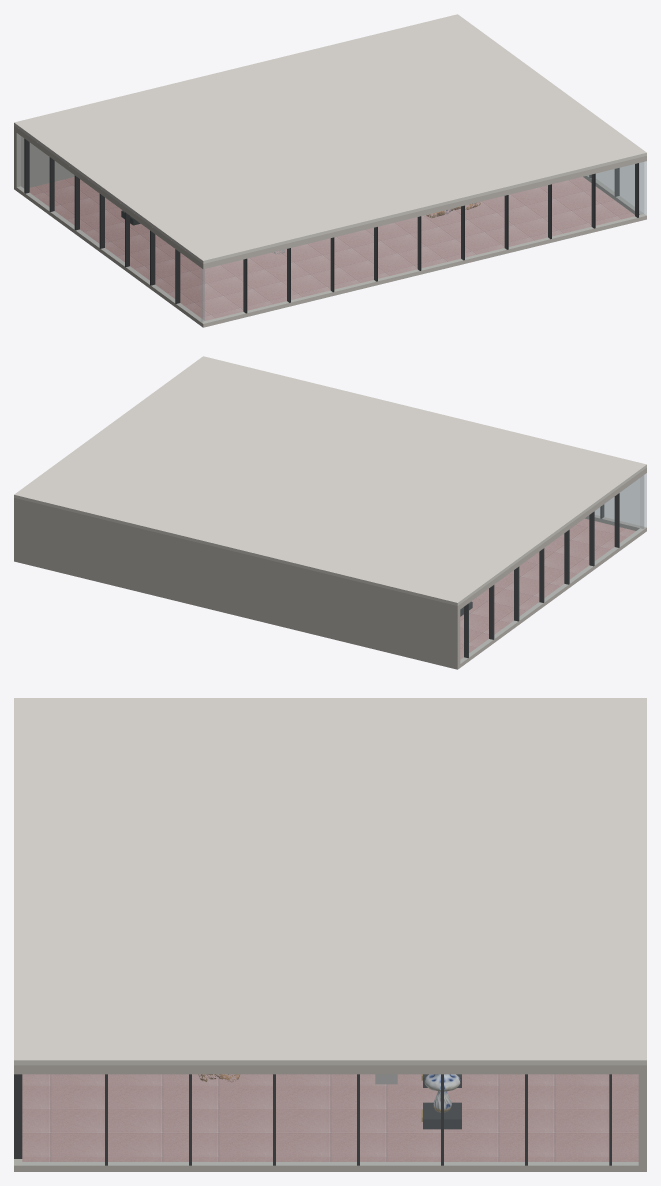
The model's file is inner-13.glb.
3 renders of one model, top to bottom at view 1: azimuth 30°, elevation 25°; view 2: azimuth 150°, elevation 25°; view 3: azimuth 270°, elevation 25°, orthographic. The views are drawn at different scales.
Visible parts, largest first — view 1: IN_ceiling, IN_floor, IN_glass_s, IN_glass_w, IN_wall_s_sill, IN_wall_s_head, IN_wall_n, IN_wall_w_sill, IN_glass_e, IN_wall_w_head; view 2: IN_ceiling, IN_wall_n, IN_glass_w, IN_floor, IN_wall_w_sill, IN_glass_s, IN_wall_w_head; view 3: IN_ceiling, IN_glass_e, IN_floor, IN_wall_e_head, IN_wall_e_sill, IN_wall_n, EX_plinth_m3, IN_mullion_s_10, EX_monster_3, IN_glass_s.
Boxes of the visible parts, left/top/right/bottom form: IN_ceiling: left=14, top=14, right=646, bottom=263; IN_floor: left=29, top=177, right=634, bottom=320; IN_glass_s: left=201, top=161, right=646, bottom=323; IN_glass_w: left=17, top=133, right=204, bottom=321; IN_wall_s_sill: left=200, top=214, right=646, bottom=327; IN_wall_s_head: left=200, top=156, right=646, bottom=269; IN_wall_n: left=14, top=126, right=74, bottom=190; IN_wall_w_sill: left=16, top=186, right=203, bottom=325; IN_glass_e: left=588, top=162, right=643, bottom=214; IN_wall_w_head: left=16, top=128, right=200, bottom=266; IN_ceiling: left=14, top=356, right=646, bottom=605; IN_wall_n: left=14, top=498, right=460, bottom=669; IN_glass_w: left=460, top=475, right=643, bottom=663; IN_floor: left=460, top=518, right=635, bottom=659; IN_wall_w_sill: left=460, top=528, right=644, bottom=667; IN_glass_s: left=595, top=473, right=646, bottom=528; IN_wall_w_head: left=460, top=470, right=644, bottom=608; IN_ceiling: left=14, top=698, right=646, bottom=1065; IN_glass_e: left=22, top=1074, right=638, bottom=1165; IN_floor: left=22, top=1074, right=638, bottom=1161; IN_wall_e_head: left=22, top=1065, right=638, bottom=1074; IN_wall_e_sill: left=22, top=1162, right=638, bottom=1171; IN_wall_n: left=638, top=1065, right=646, bottom=1171; EX_plinth_m3: left=423, top=1102, right=461, bottom=1129; IN_mullion_s_10: left=14, top=1074, right=22, bottom=1158; EX_monster_3: left=424, top=1074, right=460, bottom=1112; IN_glass_s: left=14, top=1075, right=21, bottom=1164.
Bounding box in the file's own units: 30.6 × 4.42 × 22.6.
14 materials, 7 textured.
